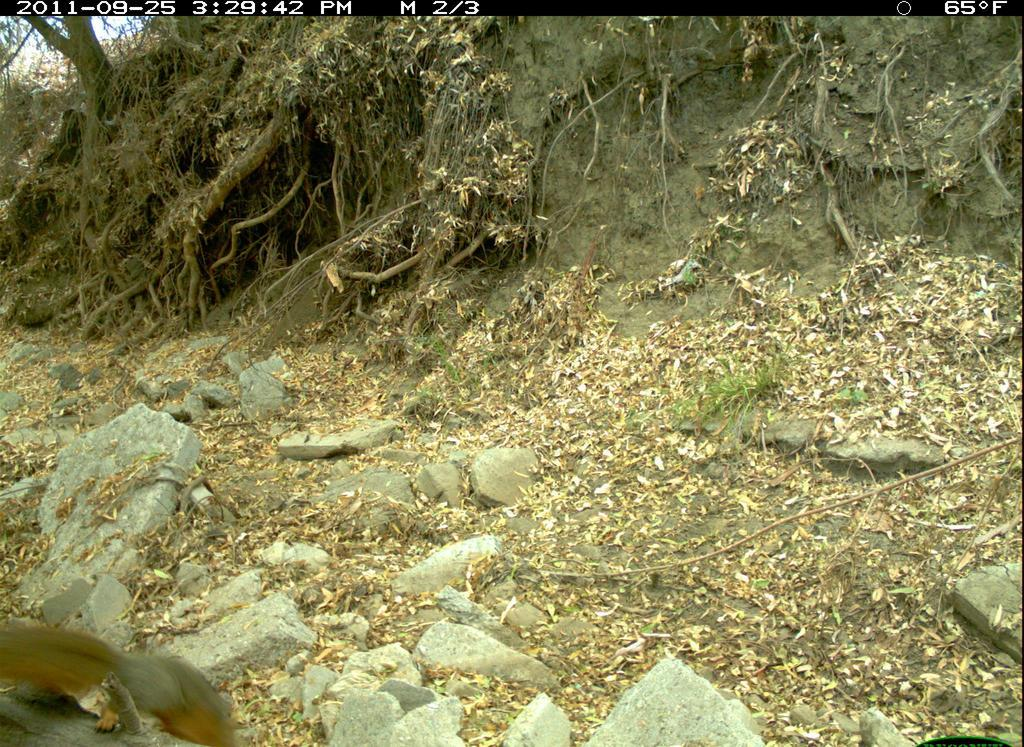squirrel: (2, 570, 257, 747)
